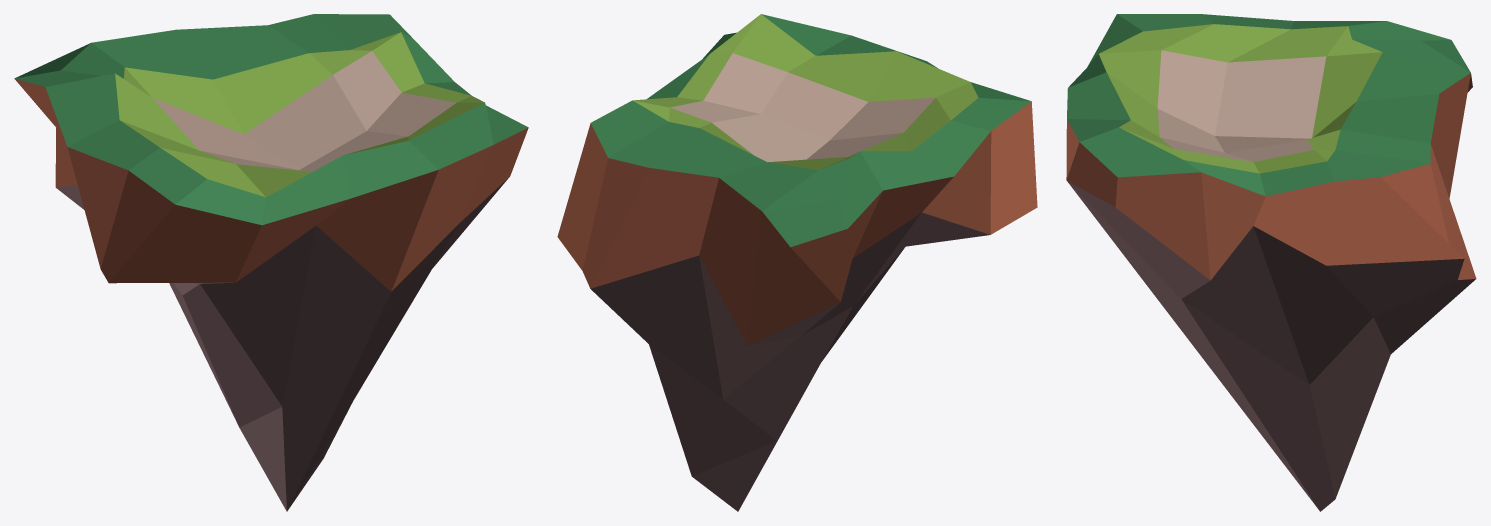
Rendered from island3.fbx.
The picture shows the model from 3 angles, left to right: view 1: azimuth 30°, elevation 25°; view 2: azimuth 150°, elevation 25°; view 3: azimuth 270°, elevation 25°; orthographic projection. The views are drawn at different scales.
Visible parts, largest first — view 1: Island3; view 2: Island3; view 3: Island3.
Boxes of the visible parts, bbox=[...] form: Island3: bbox=[14, 14, 528, 511]; Island3: bbox=[557, 14, 1037, 511]; Island3: bbox=[1066, 14, 1476, 511].
Bounding box in the file's own units: 710 × 652 × 741.
